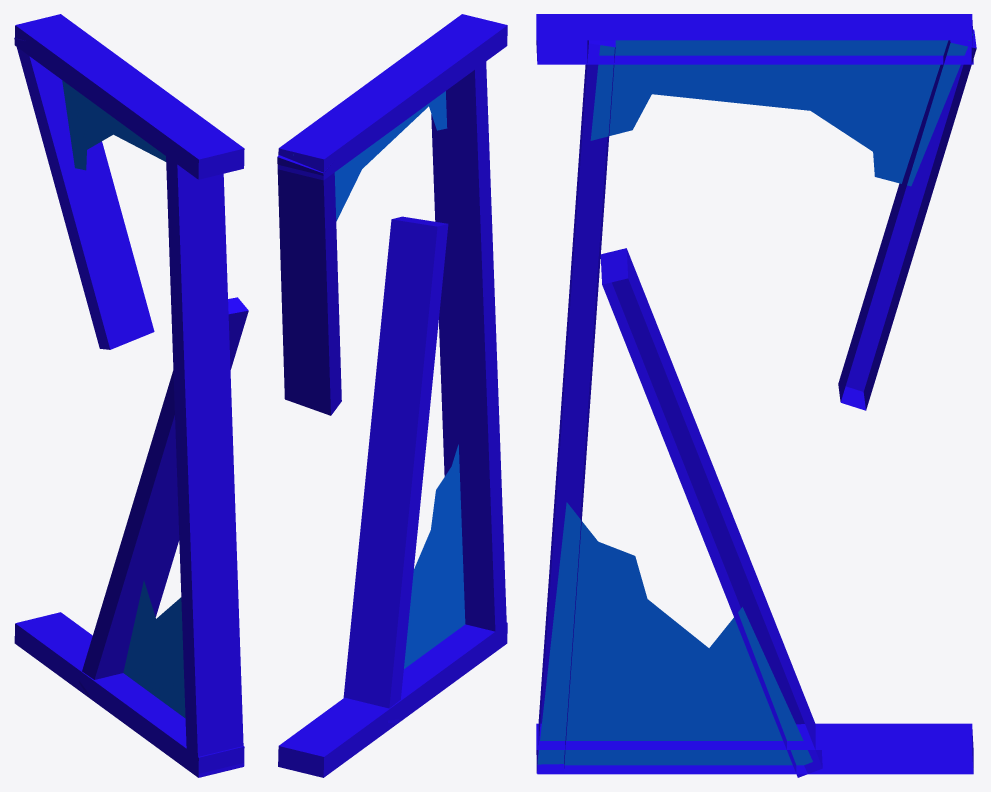
Rendered from SM_Window9.fbx.
3 views of the same model, side by side, from view 1: azimuth 30°, elevation 25°; view 2: azimuth 150°, elevation 25°; view 3: azimuth 270°, elevation 25° (orthographic). The views are drawn at different scales.
Visible parts, largest first — view 1: Window9; view 2: Window9; view 3: Window9.
Part boxes in pixels (box(x1,y1,x2,y2)): Window9: box(14, 14, 248, 777); Window9: box(277, 14, 507, 777); Window9: box(536, 14, 976, 777).
Size of the model in its own units: 17.87 by 126 by 68.11.
